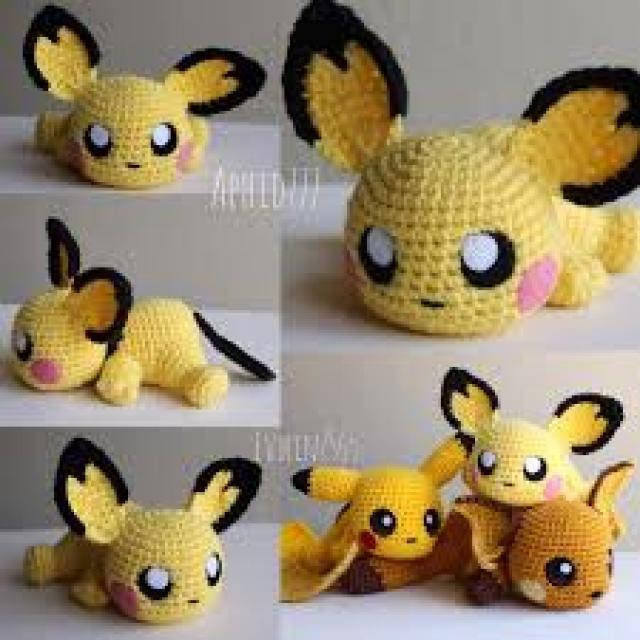pichu: (269, 0, 640, 345), (12, 446, 270, 628), (22, 9, 260, 185), (436, 366, 630, 516)
